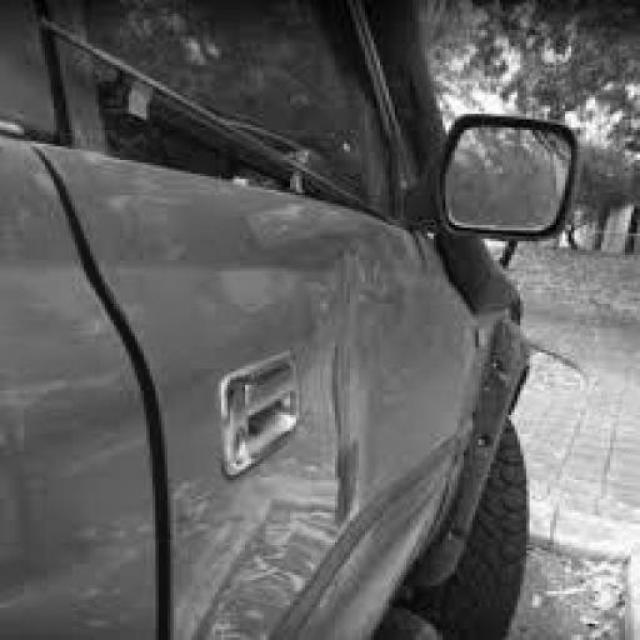dent: (312, 244, 410, 523)
